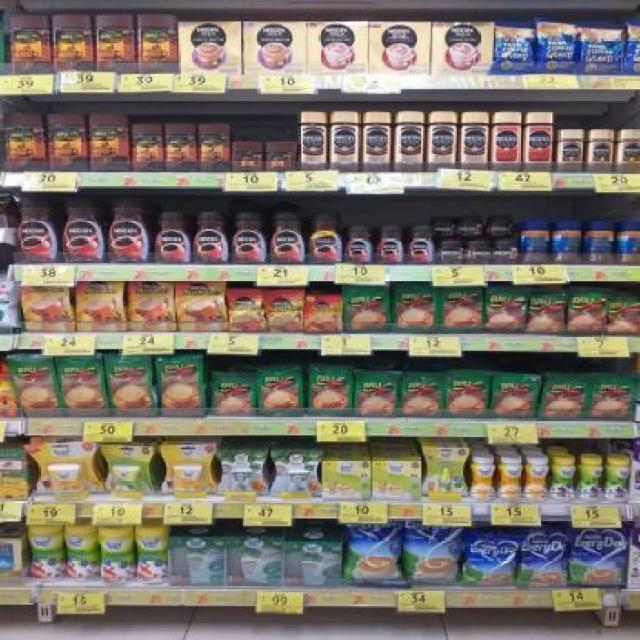Coffee: (64, 195, 105, 261), (110, 196, 146, 262), (19, 196, 54, 262), (178, 283, 224, 332), (77, 282, 121, 331), (131, 282, 174, 330), (24, 287, 70, 331), (155, 211, 188, 262), (269, 211, 302, 262), (232, 212, 265, 263), (195, 212, 228, 262), (299, 113, 328, 169), (427, 113, 456, 168), (396, 112, 423, 170), (333, 112, 359, 170), (462, 113, 488, 169), (365, 115, 390, 171), (230, 290, 264, 331), (269, 292, 302, 332), (307, 297, 340, 332), (346, 227, 373, 264), (557, 131, 581, 171), (589, 131, 613, 171), (409, 227, 435, 263), (377, 227, 402, 264), (618, 130, 640, 170), (438, 241, 462, 264), (493, 241, 519, 262), (459, 217, 484, 237), (489, 218, 515, 237), (466, 241, 489, 262), (434, 218, 453, 236)
